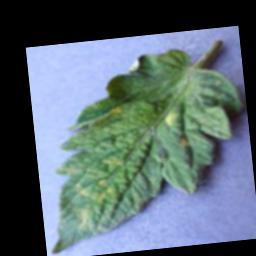Leaf_Mold: (73, 175, 114, 204), (100, 154, 127, 169), (109, 103, 127, 116), (165, 109, 178, 127), (178, 134, 190, 149)
